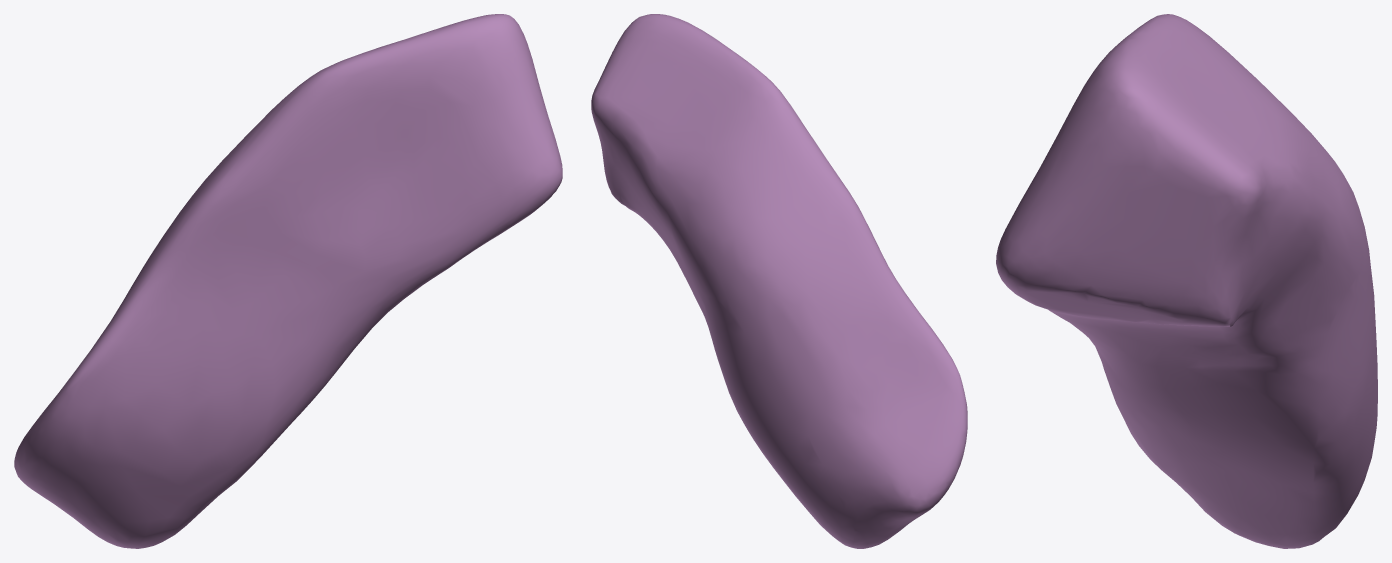
The picture shows the model from 3 angles, left to right: view 1: azimuth 30°, elevation 25°; view 2: azimuth 150°, elevation 25°; view 3: azimuth 270°, elevation 25°; orthographic projection. The views are drawn at different scales.
Parts seen in each view (by area): view 1: 右侧后方形小叶; view 2: 右侧后方形小叶; view 3: 右侧后方形小叶.
Boxes of the visible parts, x1=… form: 右侧后方形小叶: x1=14, y1=14, x2=562, y2=548; 右侧后方形小叶: x1=591, y1=14, x2=967, y2=548; 右侧后方形小叶: x1=996, y1=14, x2=1377, y2=548.
Bounding box in the file's own units: 0.0623 × 0.0664 × 0.0343.
